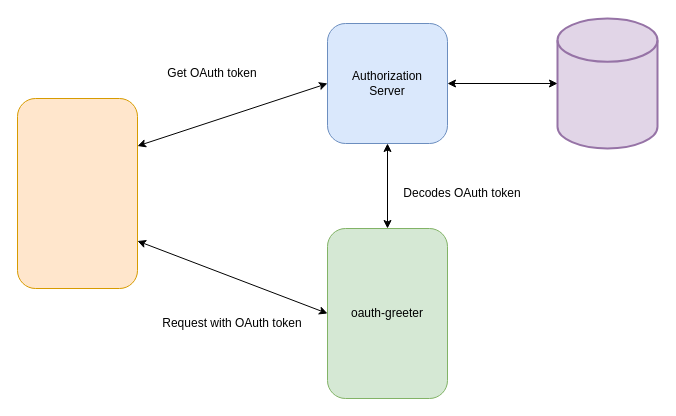
Image size: 676x416. Some labels were removed from this diagram. Here are the shapes that lost their labels. From the top down, the box of each, then its label:
(556, 17, 658, 149): Security Schema
(16, 98, 138, 288): Postman
